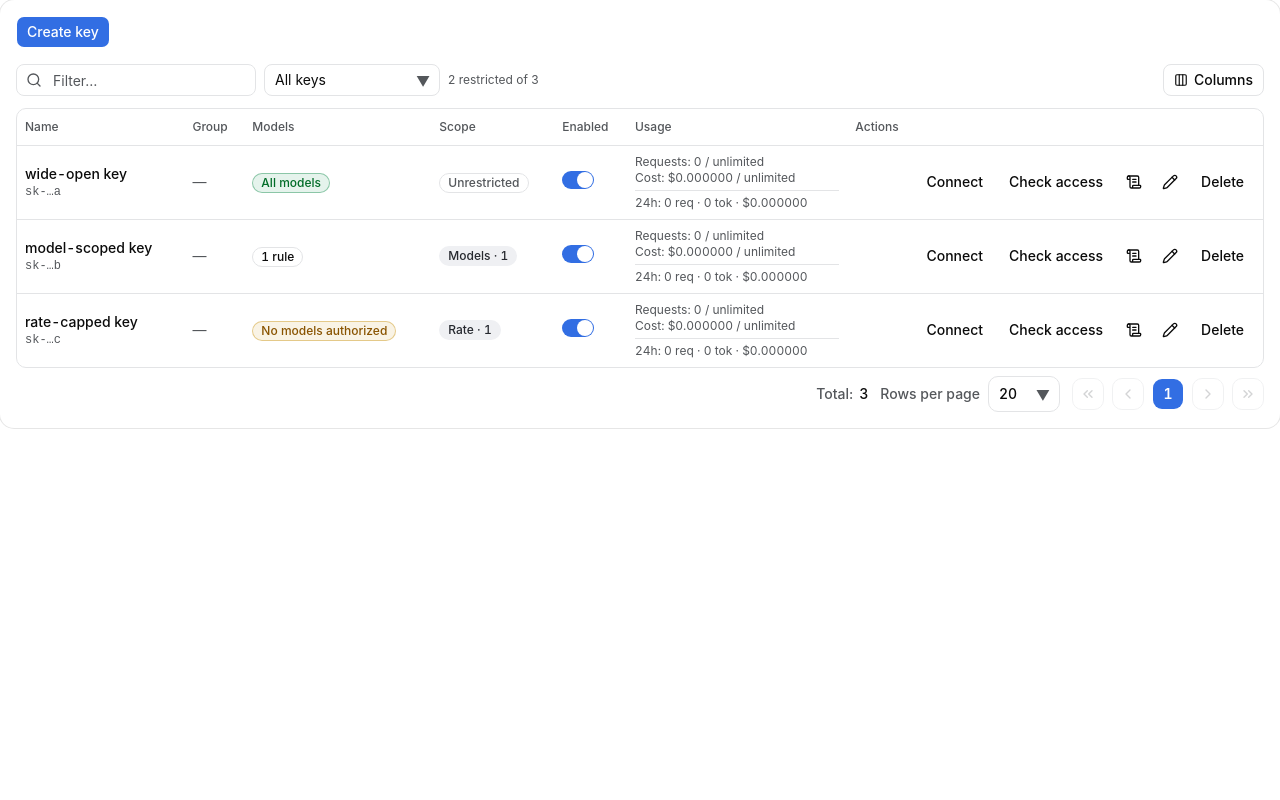
it: KeysSection restriction filter (#1430) › opens the edit sheet located at the clicked badge dimension
Expected: the text "model-scoped key" is shown, [25,239,152,256]
Step 1. Click the button "Models · 1" → click(478, 256), box [439,246,517,266]
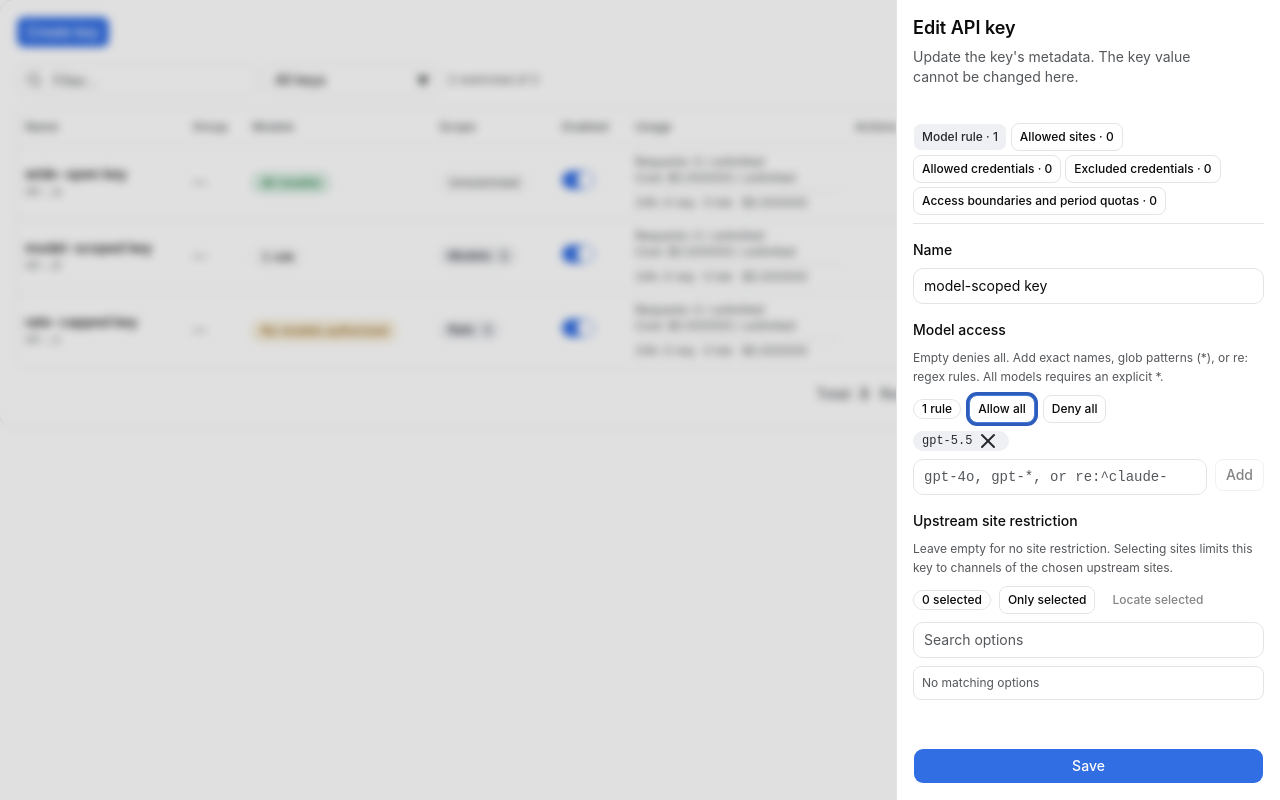
Now the field labelled "Name" holds "model-scoped key", box [913,268,1264,304]
Now the element that starts with "Model access" is shown, box [913,320,1264,495]
